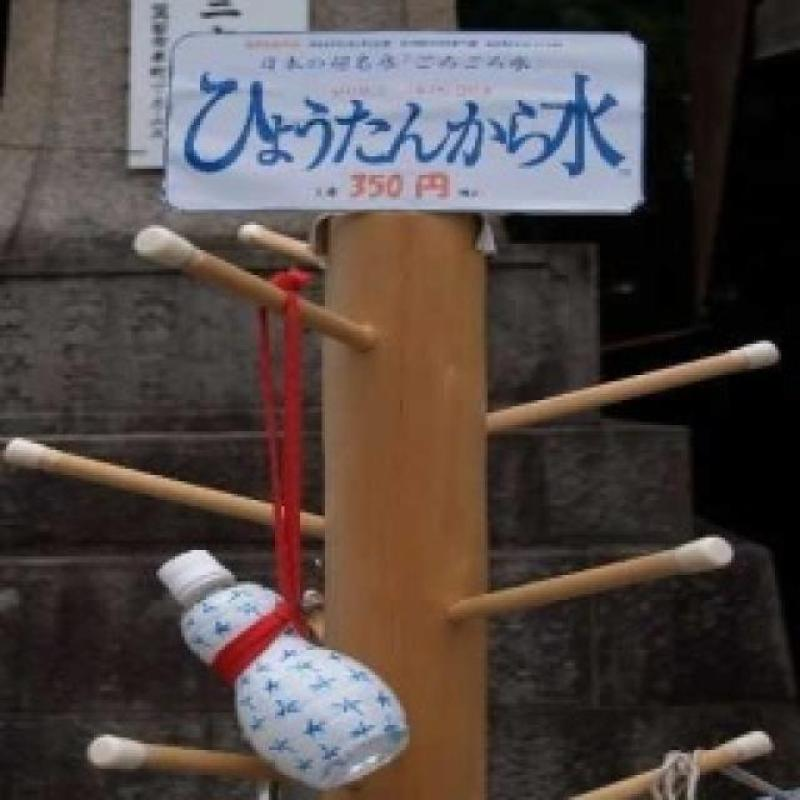botella: (157, 550, 412, 788)
